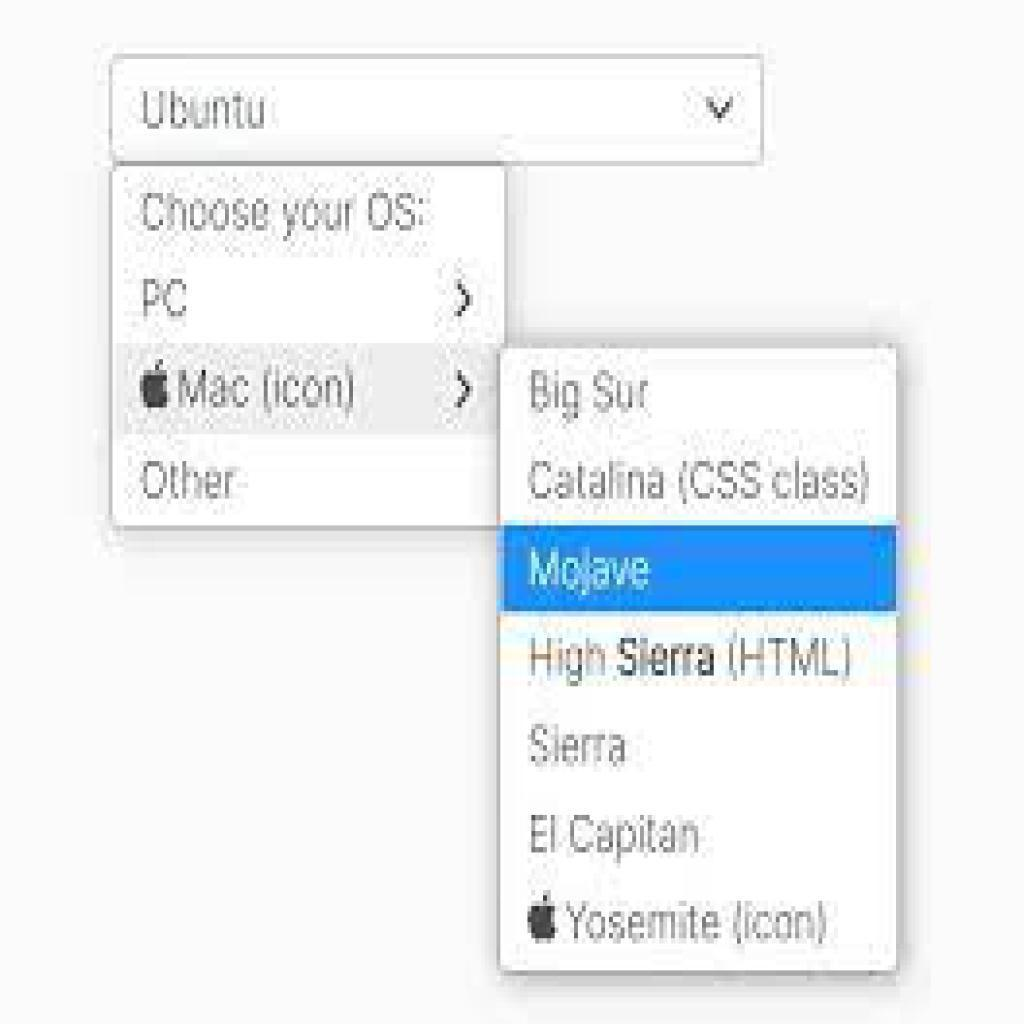dropdown: (116, 66, 761, 155)
